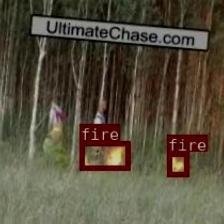fire: (78, 140, 130, 170), (167, 150, 188, 176)
